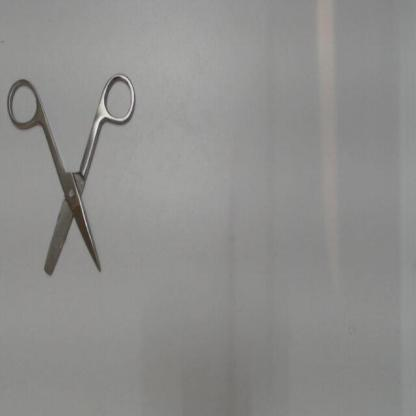Dressing Scissors: (2, 62, 144, 286)
